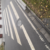zebra: (2, 2, 35, 50)
